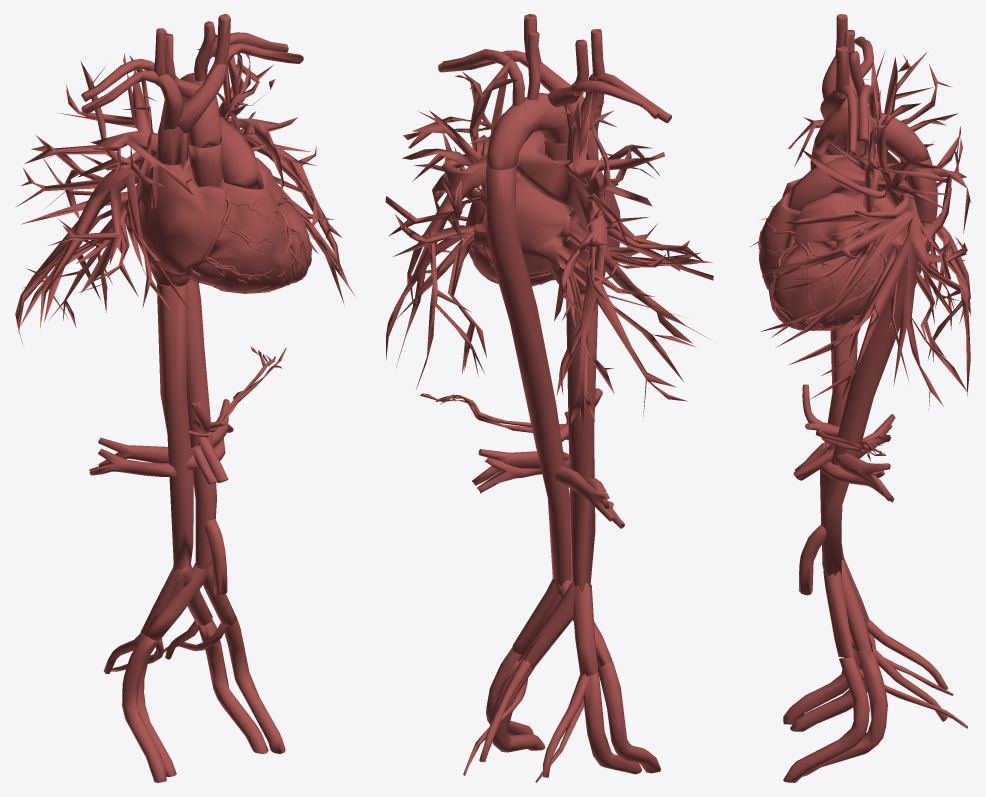
File: cardiovascular.glb
3 renders of one model, left to right at view 1: azimuth 30°, elevation 25°; view 2: azimuth 150°, elevation 25°; view 3: azimuth 270°, elevation 25°, orthographic. The views are drawn at different scales.
Visible parts, largest first — view 1: FMA66326, FMA7274, FMA66643, FMA10951, FMA3784, FMA18806, FMA18886, FMA18807, FMA4761, FMA14765, FMA3768, FMA3736 (+17 smaller); view 2: FMA66326, FMA3784, FMA66643, FMA7274, FMA10951, FMA3768, FMA18806, FMA18885, FMA21387, FMA21388, FMA18886, FMA4694 (+13 smaller); view 3: FMA66326, FMA7274, FMA3784, FMA66643, FMA3768, FMA18807, FMA18886, FMA10951, FMA14766, FMA21388, FMA18806, FMA18885 (+18 smaller).
Boxes of the visible parts, <box> form: FMA66326: <box>15,34,355,343</box>; FMA7274: <box>138,156,311,292</box>; FMA66643: <box>20,54,345,327</box>; FMA10951: <box>156,283,193,570</box>; FMA3784: <box>158,126,216,568</box>; FMA18806: <box>122,635,166,782</box>; FMA18886: <box>197,619,268,753</box>; FMA18807: <box>224,619,285,753</box>; FMA4761: <box>178,62,227,133</box>; FMA14765: <box>144,563,211,640</box>; FMA3768: <box>180,73,222,147</box>; FMA3736: <box>187,141,223,186</box>; FMA66326: <box>385,59,713,432</box>; FMA3784: <box>486,165,570,593</box>; FMA66643: <box>393,53,713,423</box>; FMA7274: <box>466,171,620,300</box>; FMA10951: <box>566,300,598,592</box>; FMA3768: <box>486,92,568,169</box>; FMA18806: <box>598,661,660,773</box>; FMA18885: <box>583,671,641,774</box>; FMA21387: <box>573,583,598,676</box>; FMA21388: <box>518,582,579,667</box>; FMA18886: <box>491,659,545,752</box>; FMA4694: <box>441,49,524,106</box>; FMA66326: <box>749,57,971,415</box>; FMA7274: <box>759,153,907,330</box>; FMA3784: <box>821,156,937,578</box>; FMA66643: <box>768,51,967,382</box>; FMA3768: <box>813,106,929,162</box>; FMA18807: <box>783,657,869,782</box>; FMA18886: <box>803,651,887,776</box>; FMA10951: <box>820,318,858,560</box>; FMA14766: <box>823,571,855,657</box>; FMA21388: <box>841,560,872,652</box>; FMA18806: <box>783,648,859,724</box>; FMA18885: <box>790,633,875,731</box>.
Bounding box in the file's own units: 0.2448 × 0.5664 × 0.159.
